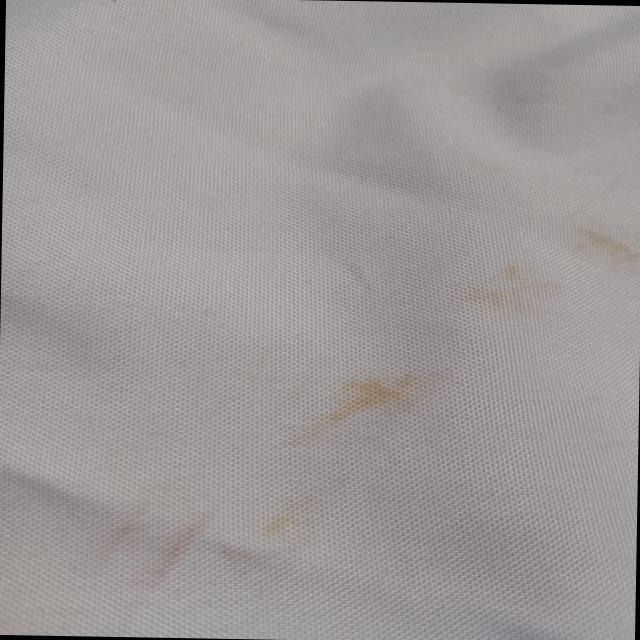stain: (73, 486, 279, 604), (303, 358, 437, 434), (466, 249, 571, 322), (558, 220, 634, 274)
